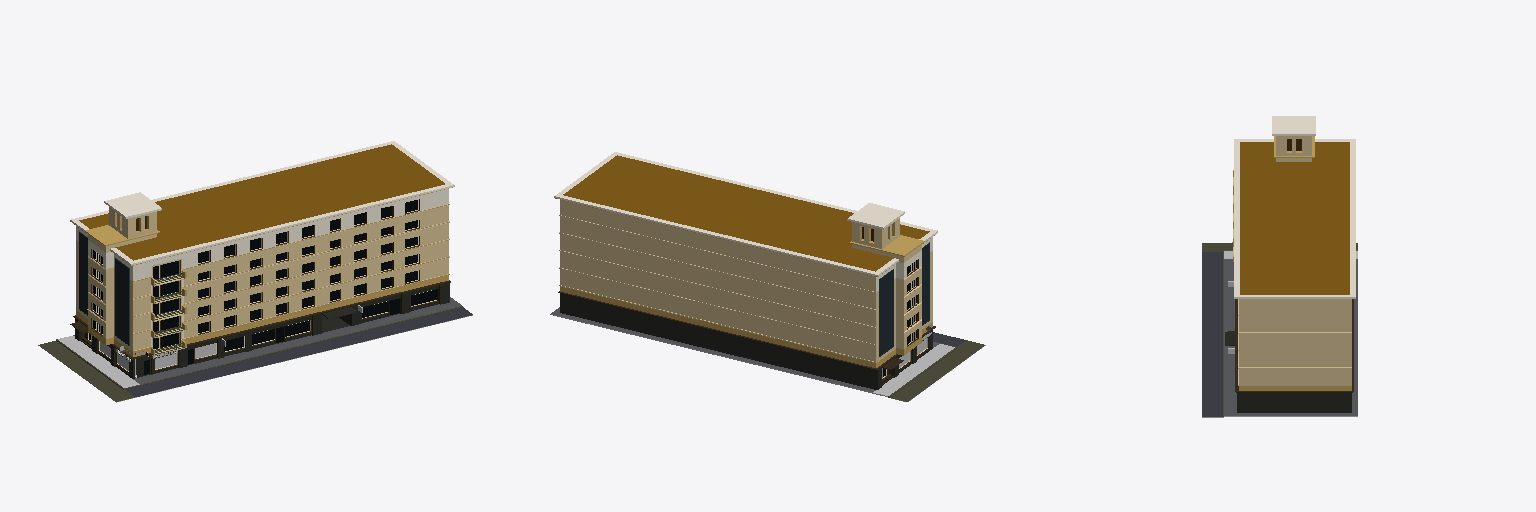
The model's file is building05.obj.
The picture shows the model from 3 angles: view 1: azimuth 30°, elevation 25°; view 2: azimuth 150°, elevation 25°; view 3: azimuth 270°, elevation 25°; orthographic projection.
Parts seen in each view (by area): view 1: Layer_0; view 2: Layer_0; view 3: Layer_0.
Part boxes in pixels (x1,y1,x2,y2): Layer_0: (38, 141, 472, 402); Layer_0: (550, 152, 985, 401); Layer_0: (1202, 116, 1357, 417).
Bounding box in the file's own units: 54.82 × 21.77 × 20.77.